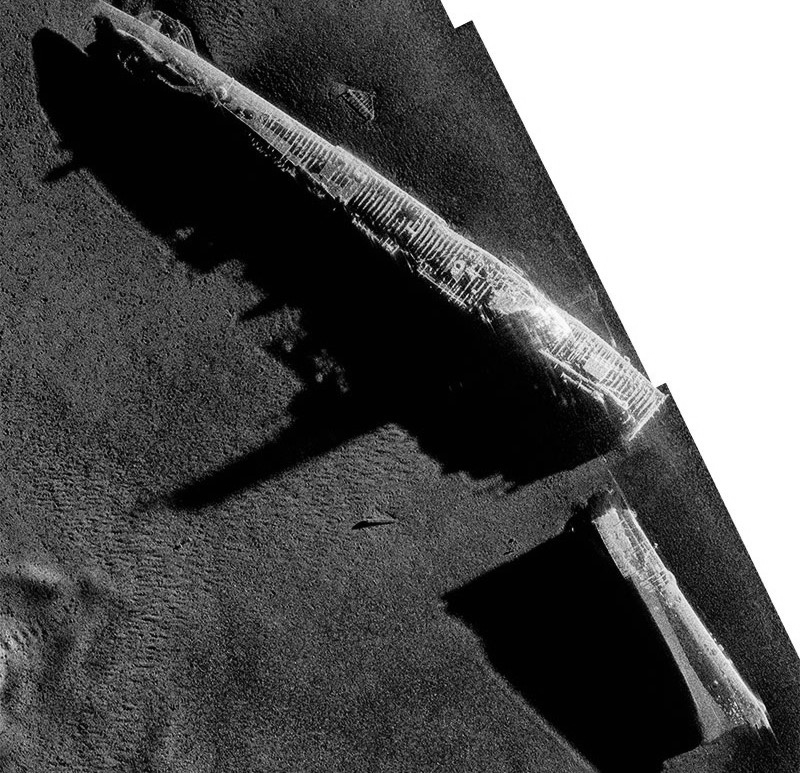ship: (86, 3, 667, 428), (581, 488, 770, 741)
